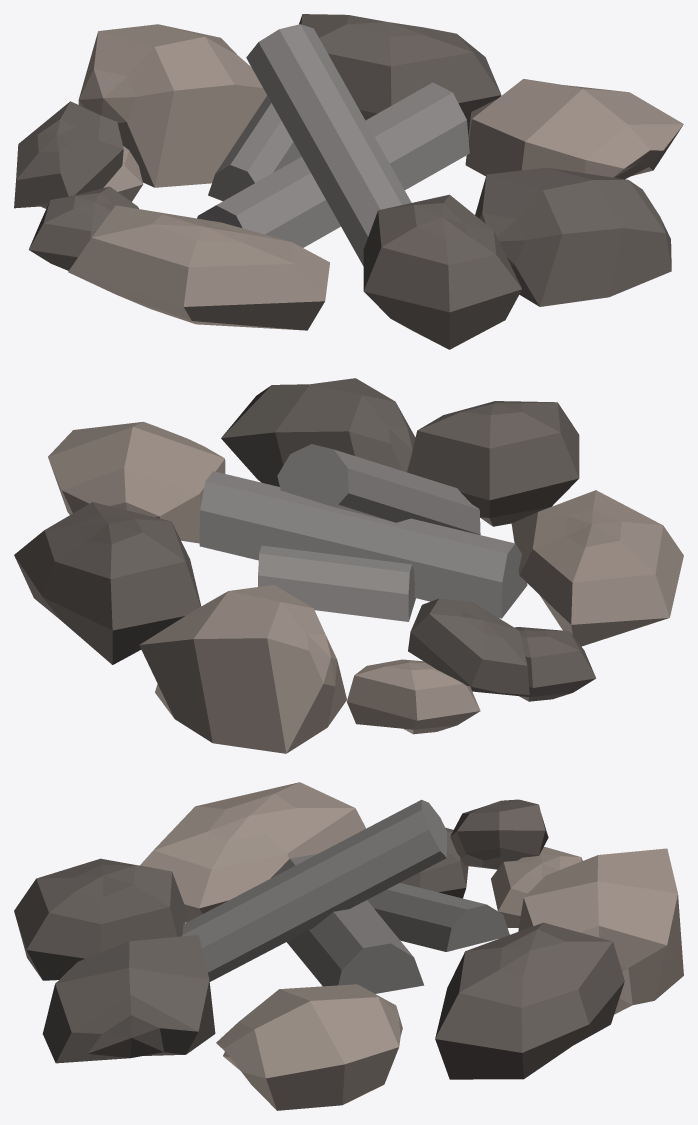
The model's file is firePit.fbx.
3 views of the same model, one above another, from view 1: azimuth 30°, elevation 25°; view 2: azimuth 150°, elevation 25°; view 3: azimuth 270°, elevation 25° (orthographic). The views are drawn at different scales.
Visible parts, largest first — view 1: firePit; view 2: firePit; view 3: firePit.
Boxes of the visible parts, x1,y1,x2,y2 form: firePit: (14, 14, 683, 349); firePit: (14, 378, 683, 753); firePit: (14, 782, 683, 1110).
Size of the model in its own units: 6.91 by 2.1 by 6.72.
